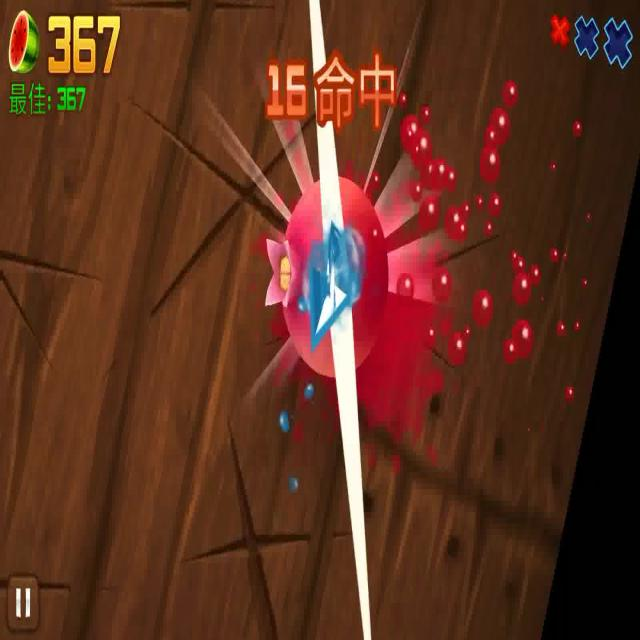fruit: (278, 183, 386, 370)
